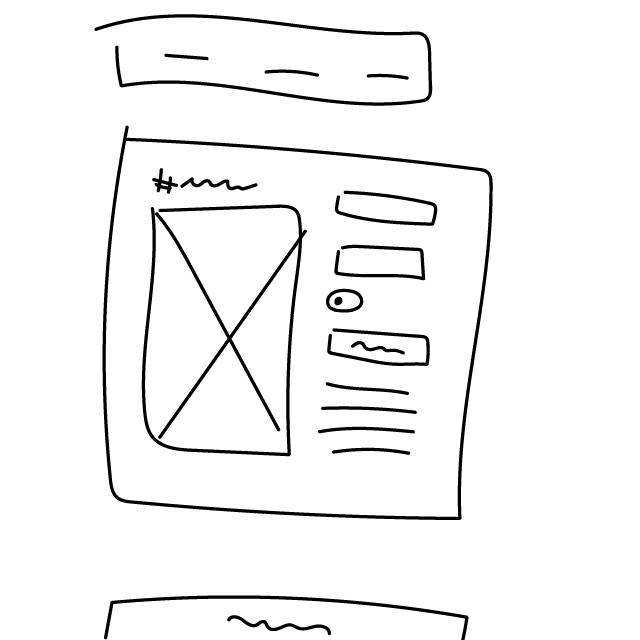button: (324, 323, 435, 372)
checkbox: (325, 288, 369, 314)
container: (95, 124, 495, 530)
footer: (88, 583, 479, 640)
frame: (140, 202, 309, 460)
heading: (153, 164, 261, 197)
input: (333, 189, 442, 229), (333, 242, 430, 285)
nav: (95, 8, 441, 111)
text: (318, 375, 424, 470)
